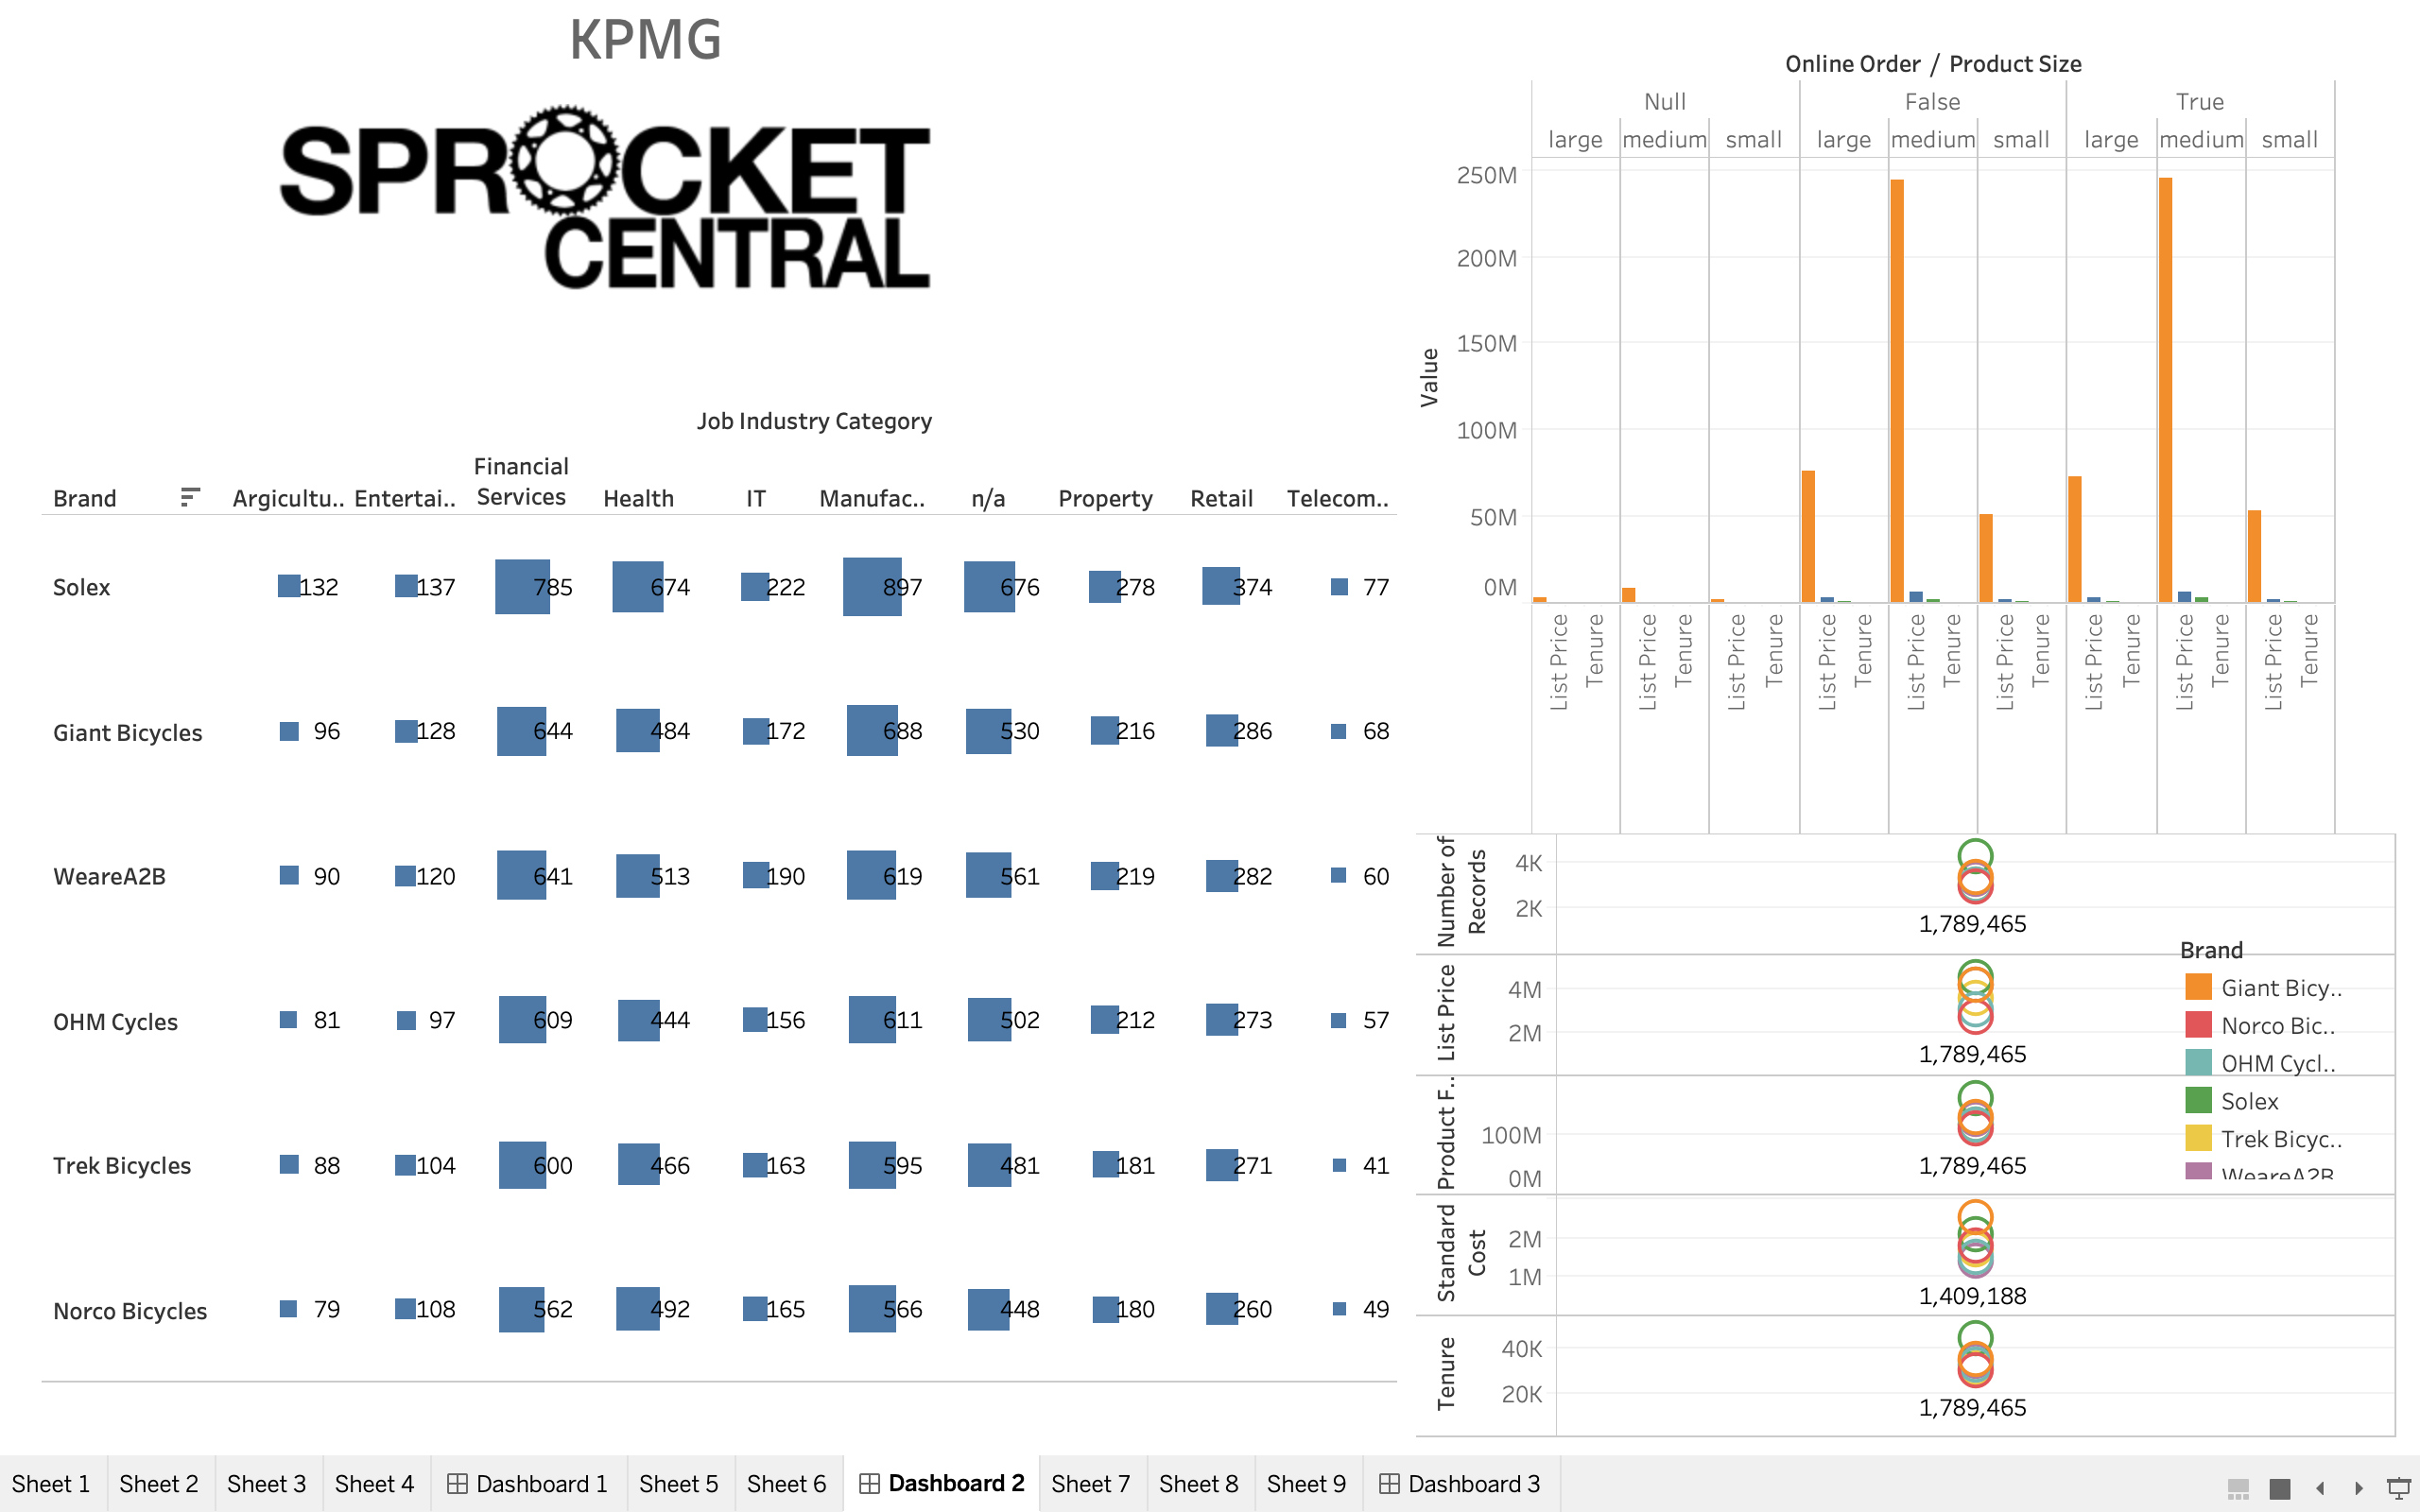

The page's visual inventory and layout, read from the dashboard file:
{"tool":"tableau","page":{"name":"Dashboard 2","canvas":[1000,1000],"units":"permille","ordinal":1},"visuals":[{"type":"worksheet","box":[232.9,7.5,138.5,34.7]},{"type":"worksheet","title":"Sheet 4","mark":"Automatic","cols":["online_order","product_size"],"box":[578.1,29.8,387.4,568.2]},{"type":"worksheet","param":"Image/sprocket_central_logo.png","box":[115.1,70.9,410.7,158.4]},{"type":"worksheet","title":"Sheet 6","mark":"Automatic","rows":["brand"],"cols":["job_industry_category"],"box":[16.9,274.9,560.6,675.8]},{"type":"worksheet","title":"Sheet 5","mark":"Shape","rows":["Number of Records","list_price","product_first_sold_date","standard_cost","tenure"],"box":[585.4,572.7,405.6,415.8]},{"type":"worksheet","title":"Sheet 5","mark":"Shape","rows":["Number of Records","list_price","product_first_sold_date","standard_cost","tenure"],"param":"[federated.10zzsdp0hoaa021cgm0eb0f26sjg].[none:brand:nk]","box":[901,641.5,84.5,169.5]}]}

Visuals, with their boxes on the dashboard's canvas, which has no fixed pixel size, in thousandths of its width and height (x1, y1, x2, y2). These are canvas units, not pixel positions in the 2420x1512 screenshot, which may show the page scaled, cropped or inside an application window:
worksheet: x1=233 y1=8 x2=371 y2=42
"Sheet 4" worksheet: x1=578 y1=30 x2=966 y2=598
worksheet: x1=115 y1=71 x2=526 y2=229
"Sheet 6" worksheet: x1=17 y1=275 x2=578 y2=951
"Sheet 5" worksheet (Shape marks): x1=585 y1=573 x2=991 y2=988
"Sheet 5" worksheet (Shape marks): x1=901 y1=642 x2=986 y2=811
